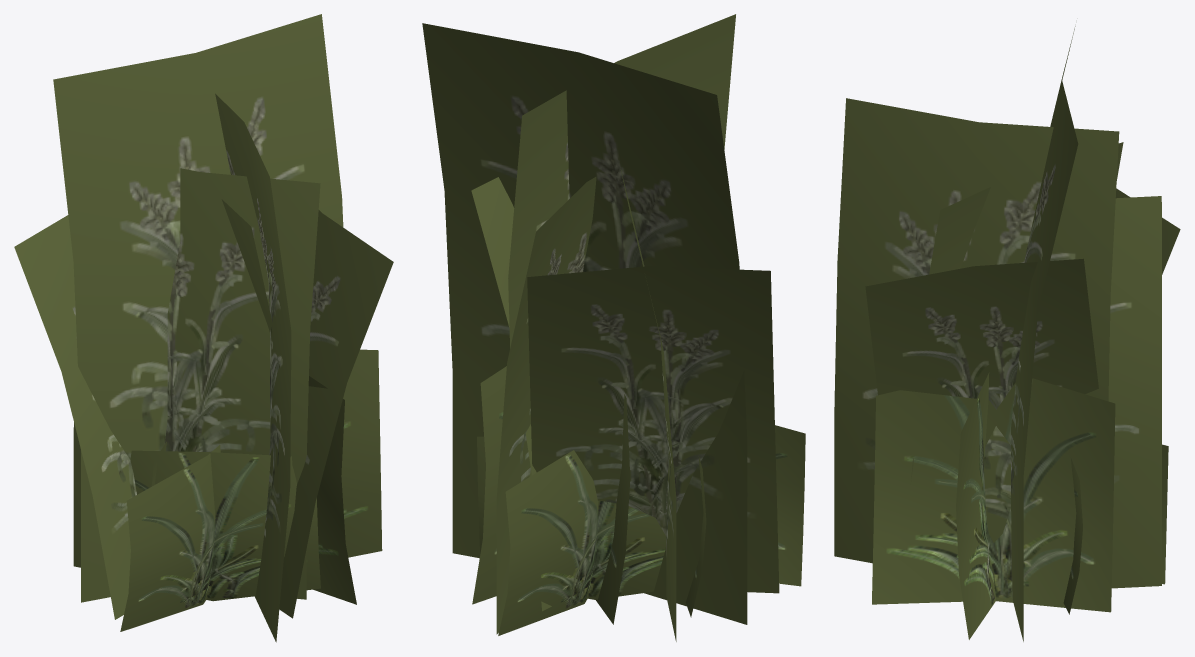
The model's file is SM_Grass_small_clump_A3.fbx.
3 views of the same model, side by side, from view 1: azimuth 30°, elevation 25°; view 2: azimuth 150°, elevation 25°; view 3: azimuth 270°, elevation 25° (orthographic). The views are drawn at different scales.
Parts seen in each view (by area): view 1: SM_Grass_small_clump_A3; view 2: SM_Grass_small_clump_A3; view 3: SM_Grass_small_clump_A3.
Part boxes in pixels (x1,y1,x2,y2): SM_Grass_small_clump_A3: (14,14,393,642); SM_Grass_small_clump_A3: (422,14,805,641); SM_Grass_small_clump_A3: (834,26,1180,641).
Size of the model in its own units: 36.94 by 56.73 by 35.13.
